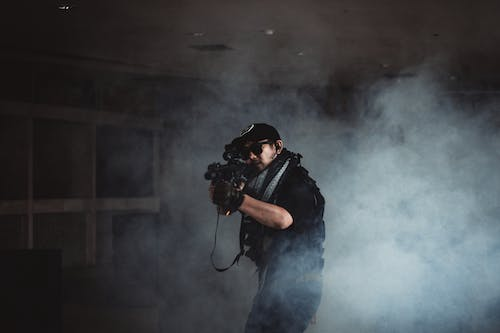gun: (204, 142, 254, 217)
